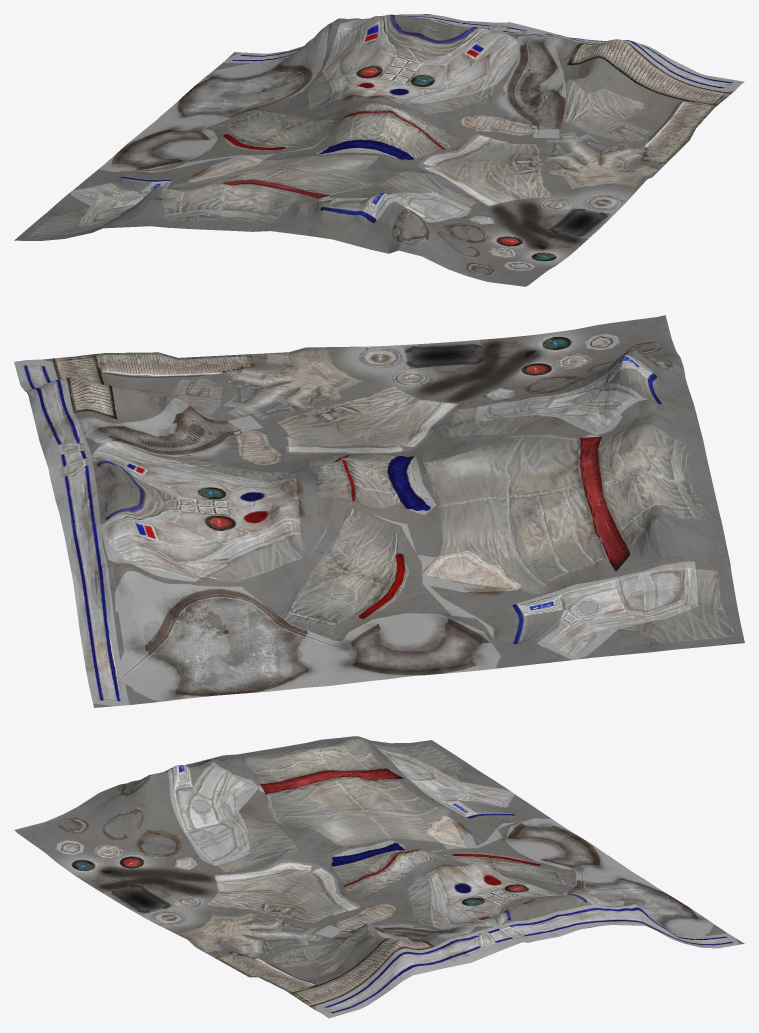
Rendered from marsFloor.obj.
3 views of the same model, one above another, from view 1: azimuth 30°, elevation 25°; view 2: azimuth 150°, elevation 25°; view 3: azimuth 270°, elevation 25° (orthographic). The views are drawn at different scales.
Parts seen in each view (by area): view 1: marsNewFloor_Plane001; view 2: marsNewFloor_Plane001; view 3: marsNewFloor_Plane001.
Boxes of the visible parts, x1,y1,x2,y2 form: marsNewFloor_Plane001: (14, 14, 744, 286); marsNewFloor_Plane001: (14, 315, 744, 707); marsNewFloor_Plane001: (14, 736, 744, 1018).
Size of the model in its own units: 632 by 104 by 629.
